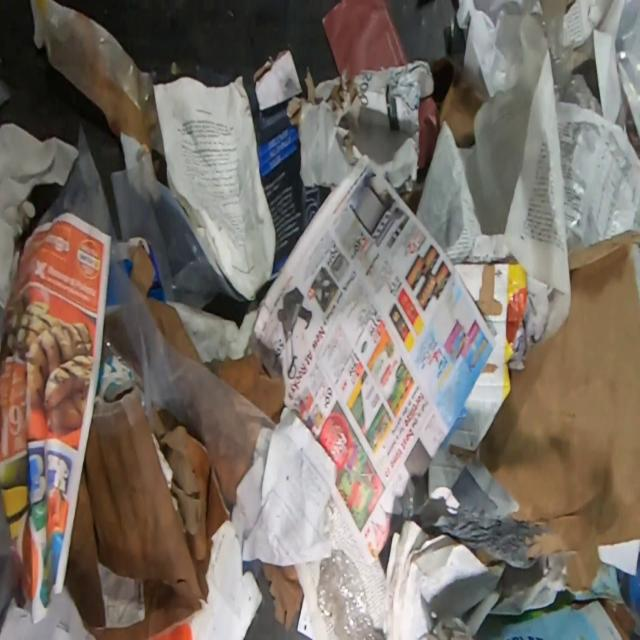cardboard: (479, 225, 640, 589), (254, 49, 440, 193), (444, 263, 528, 451), (246, 83, 299, 176), (242, 559, 303, 630)
soft_plastic: (35, 124, 336, 501), (461, 0, 601, 231), (31, 0, 161, 156), (111, 164, 235, 309), (316, 548, 386, 640), (614, 0, 640, 134), (602, 599, 638, 640)
